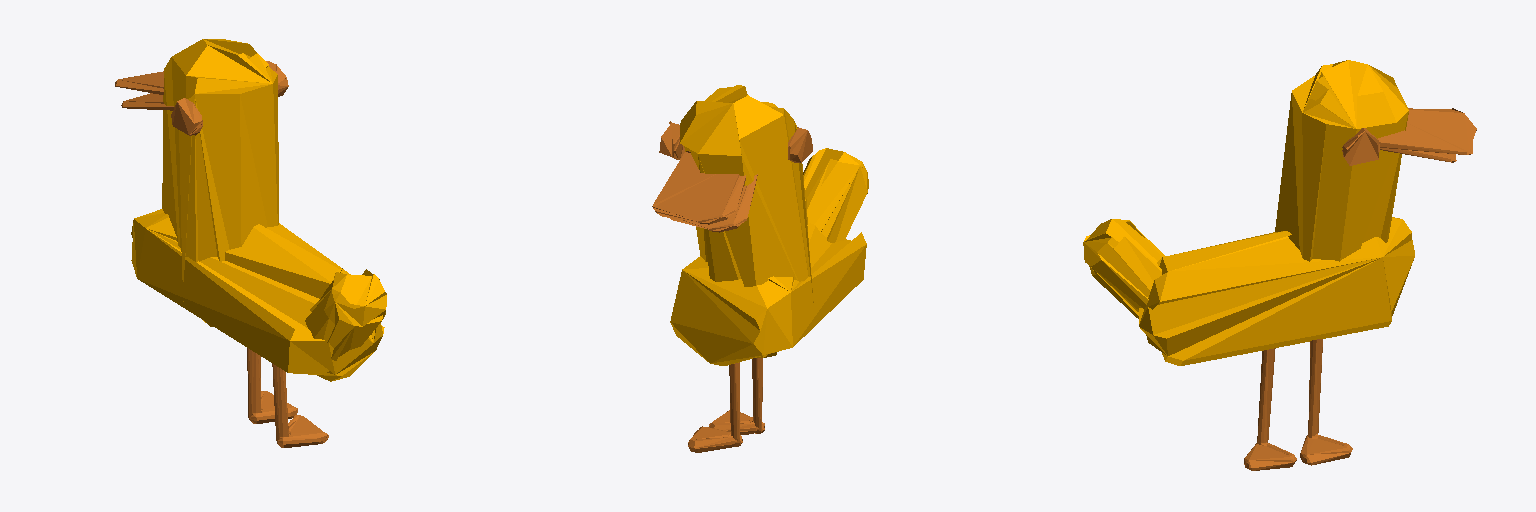
File: DDLP.obj
3 views of the same model, side by side, from view 1: azimuth 30°, elevation 25°; view 2: azimuth 150°, elevation 25°; view 3: azimuth 270°, elevation 25° (orthographic).
Parts seen in each view (by area): view 1: dd; view 2: dd; view 3: dd.
Part boxes in pixels (x1,y1,x2,y2): dd: (115,39,386,447); dd: (652,85,868,452); dd: (1083,60,1476,470).
Size of the model in its own units: 0.7341 by 1.85 by 1.74.